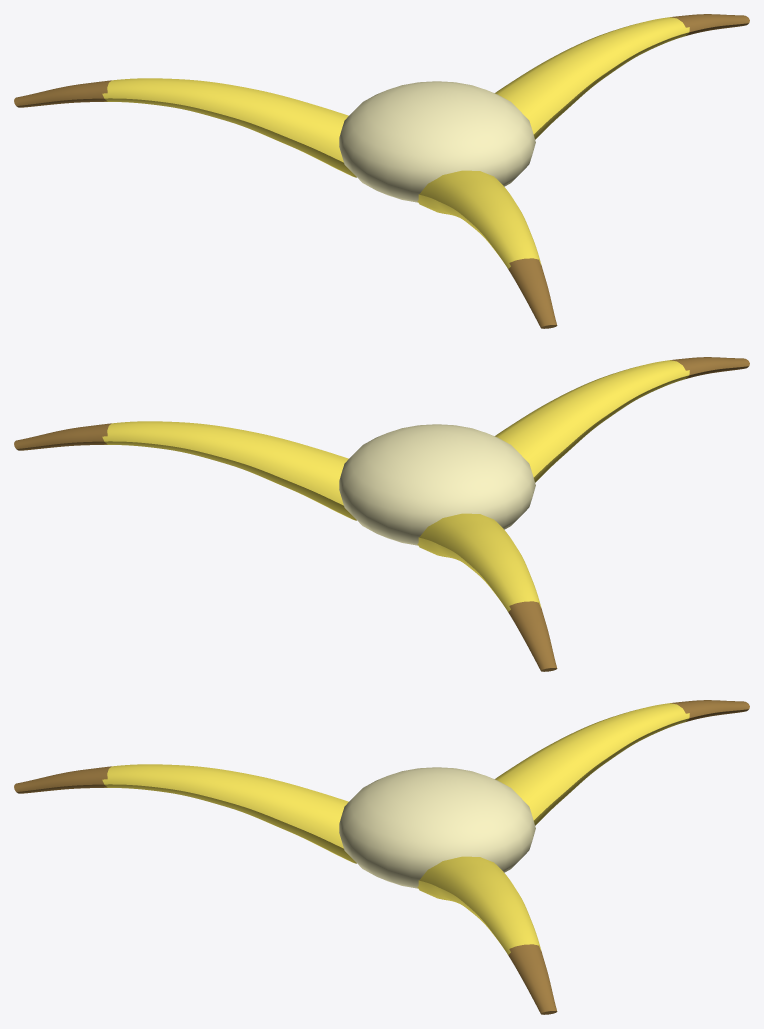
File: BananaPeel.fbx
3 renders of one model, top to bottom at view 1: azimuth 30°, elevation 25°; view 2: azimuth 150°, elevation 25°; view 3: azimuth 270°, elevation 25°, orthographic.
Parts seen in each view (by area): view 1: BananaPeel; view 2: BananaPeel; view 3: BananaPeel.
Boxes of the visible parts, x1,y1,x2,y2 form: BananaPeel: [14, 14, 749, 328]; BananaPeel: [14, 357, 749, 671]; BananaPeel: [14, 700, 749, 1014].
Bounding box in the file's own units: 1.19 × 0.16 × 1.19.
